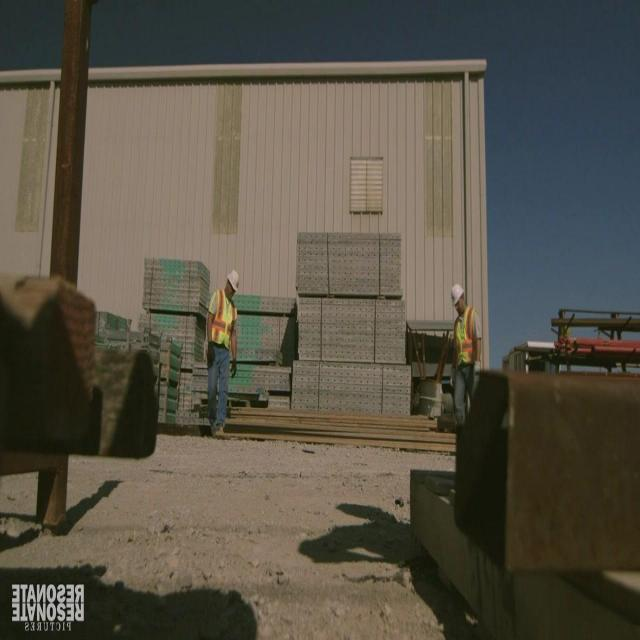Reflective-Jacket: (204, 286, 242, 359), (448, 305, 484, 380)
Safety-Helmet: (448, 278, 470, 310), (224, 264, 244, 297)
